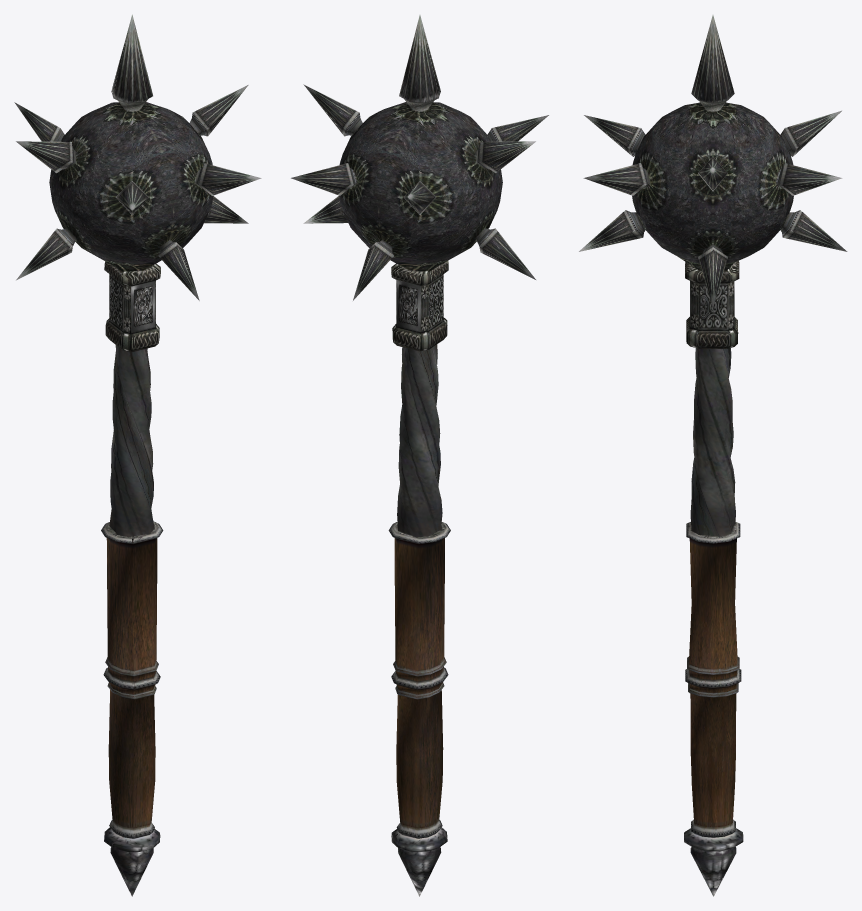
The model's file is steelmace02.obj.
The picture shows the model from 3 angles, left to right: view 1: azimuth 30°, elevation 25°; view 2: azimuth 150°, elevation 25°; view 3: azimuth 270°, elevation 25°; orthographic projection.
Visible parts, largest first — view 1: Mace:0; view 2: Mace:0; view 3: Mace:0.
Boxes of the visible parts, left/top/right/bottom form: Mace:0: left=14, top=14, right=261, bottom=896; Mace:0: left=291, top=15, right=548, bottom=896; Mace:0: left=579, top=15, right=847, bottom=896.
Bounding box in the file's own units: 14.56 × 52.63 × 14.56.
